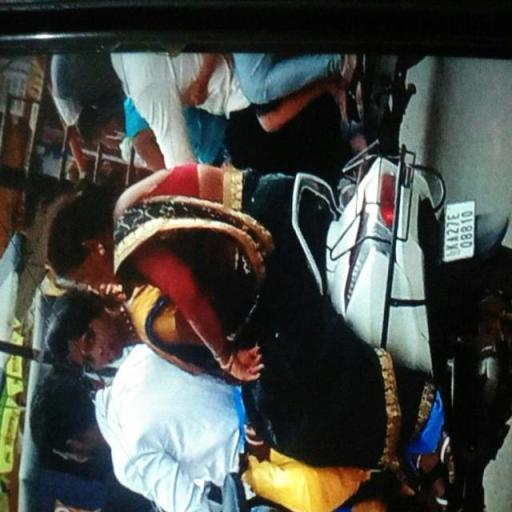tripple riding: (12, 162, 303, 512)
